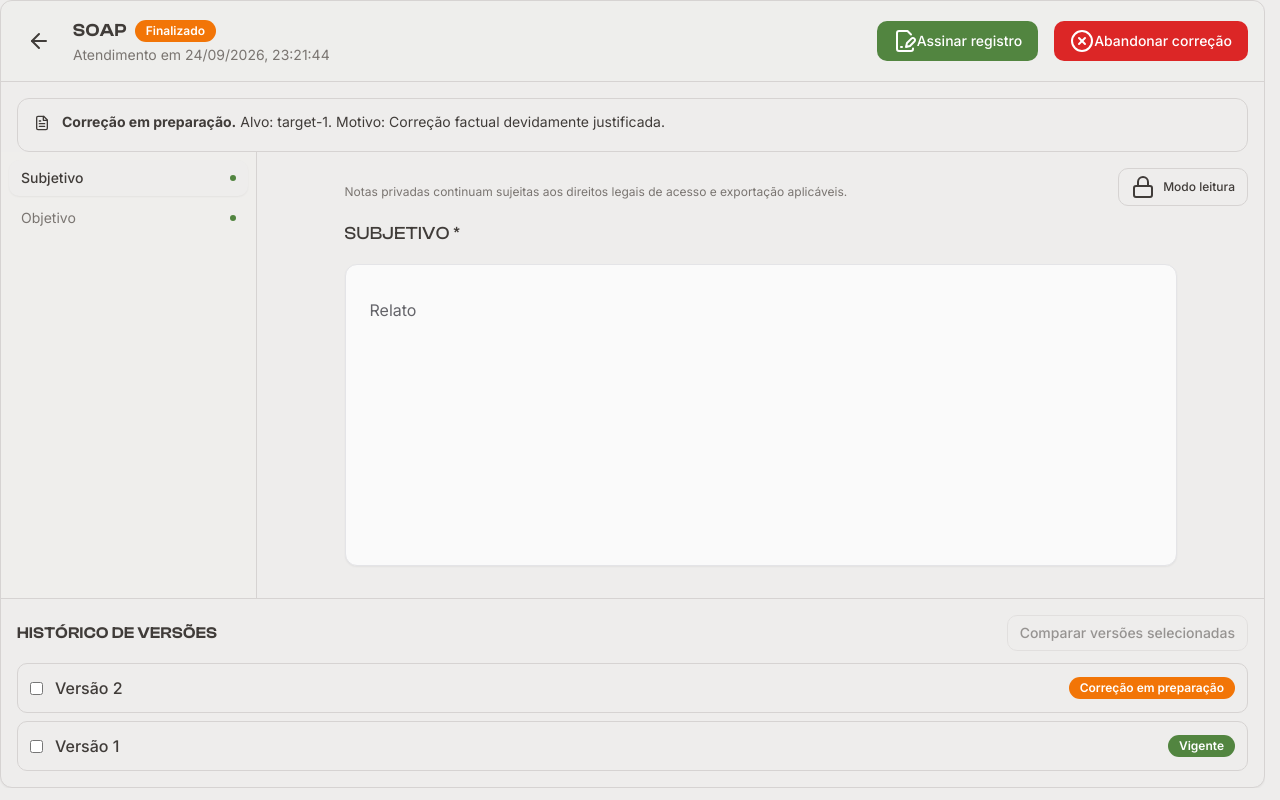
Test: EvolutionEditor › reloads the amendment chain and parent after signing a correction replacement
Click the button "Assinar registro".
click(957, 41)  # box [877,21,1038,61]
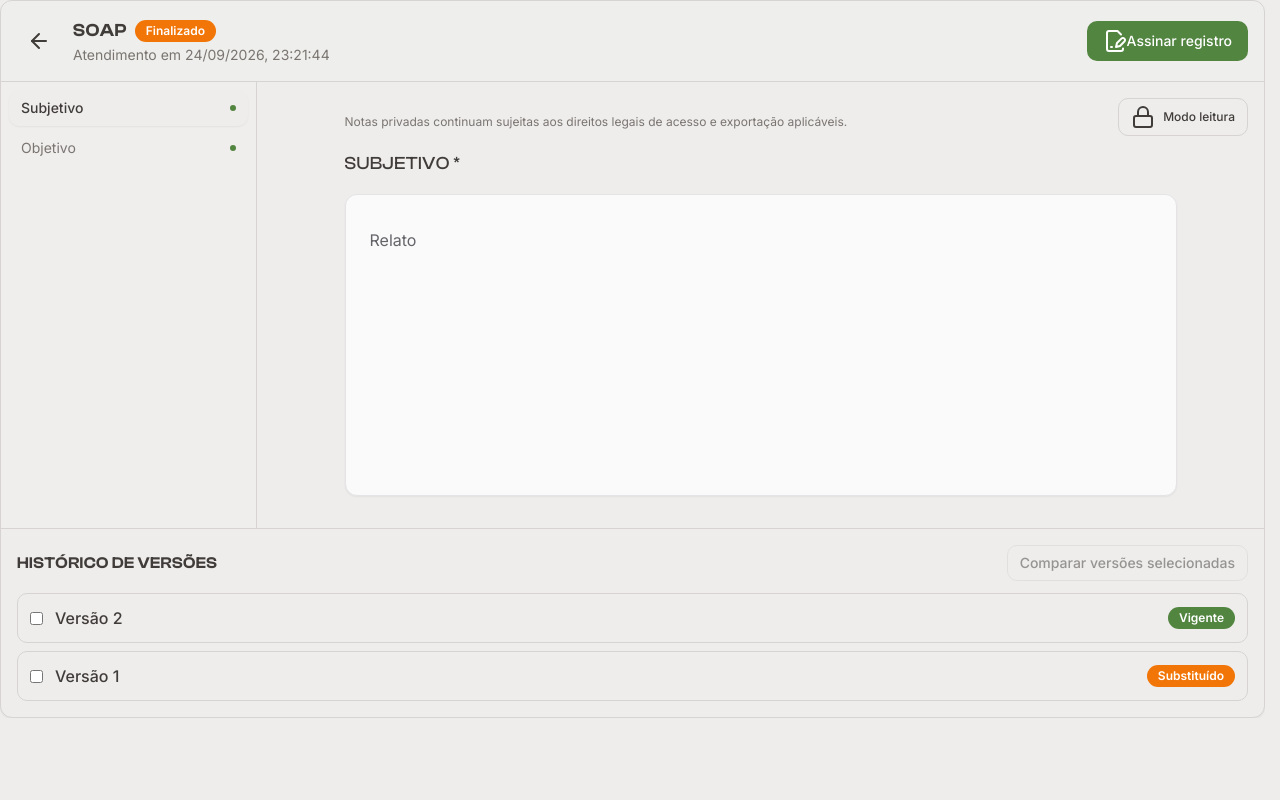
Now the text "Vigente" is shown, box [1168,607,1235,629]
Now the text "Substituído" is shown, box [1147,665,1235,687]
Now the button with aria-label "Abrir versão 2, Vigente" is shown, box [55,606,1156,630]
